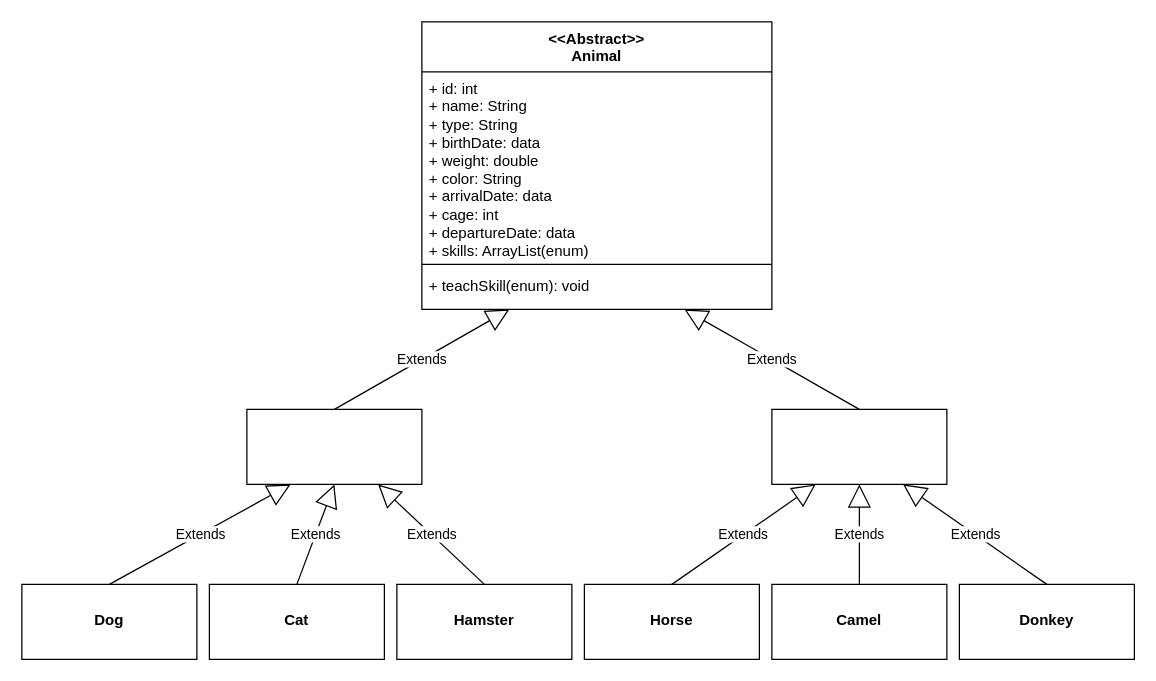
Some shapes in this 1156 by 681 pixel diagram are drawn without their labels. The shapes that lost their labels are listed below. From the top down, each one's centre as x and y in pixels, then its label:
At (x=334, y=446): "<<Abstract>> Pet".
At (x=859, y=446): "<<Abstract>> PackAnimal".
